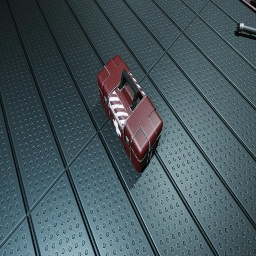FirstAidBox ,: (97, 55, 163, 172)
